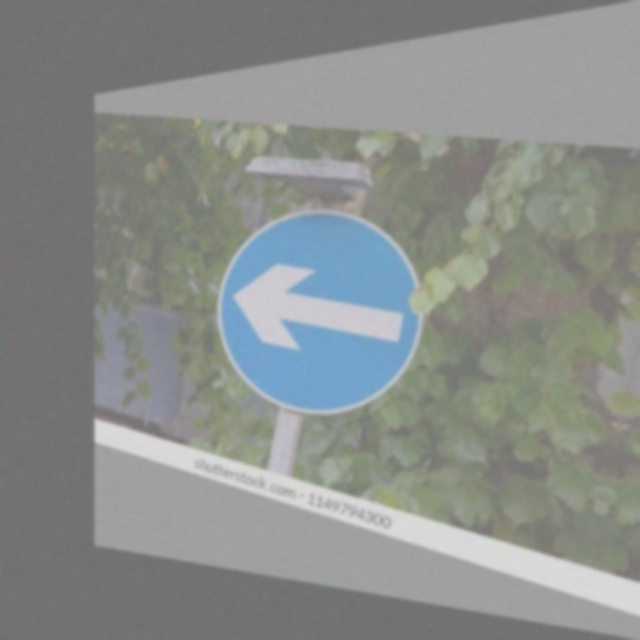Compulsory_Turn_Left: (205, 178, 441, 441)
